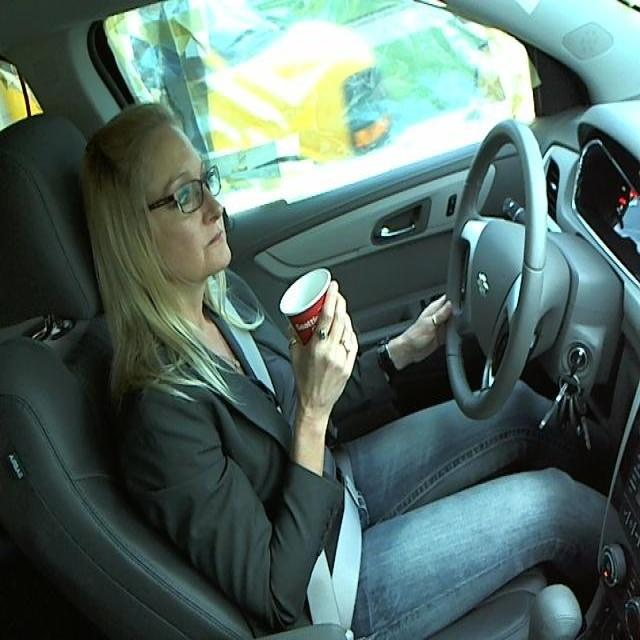Seatbelt: (281, 266, 354, 394)
